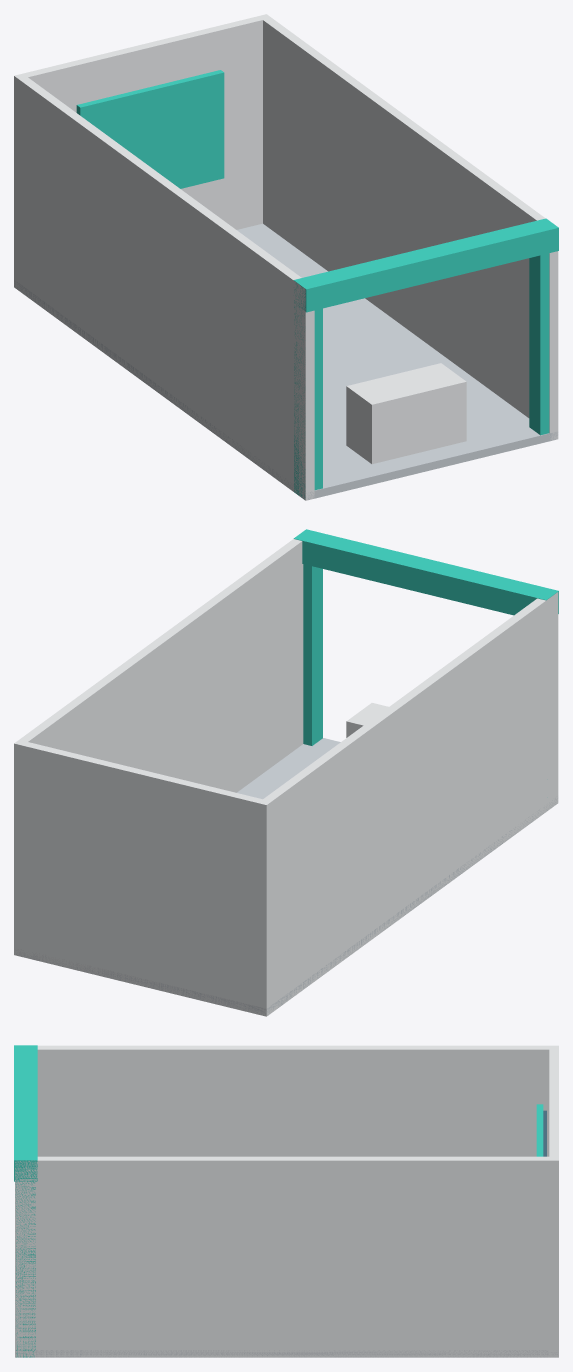
The picture shows the model from 3 angles, top to bottom: view 1: azimuth 30°, elevation 25°; view 2: azimuth 150°, elevation 25°; view 3: azimuth 270°, elevation 25°; orthographic projection. The views are drawn at different scales.
Visible parts, largest first — view 1: Exhibition Booth Concept; view 2: Exhibition Booth Concept; view 3: Exhibition Booth Concept.
Part boxes in pixels (x1=…): Exhibition Booth Concept: x1=14, y1=14, x2=558, y2=500; Exhibition Booth Concept: x1=14, y1=529, x2=558, y2=1016; Exhibition Booth Concept: x1=14, y1=1045, x2=558, y2=1357.
Size of the model in its own units: 4 by 3.2 by 8.01.
